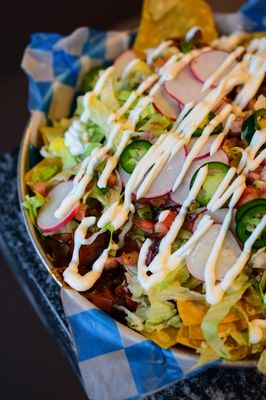sushi: (14, 3, 265, 380)
